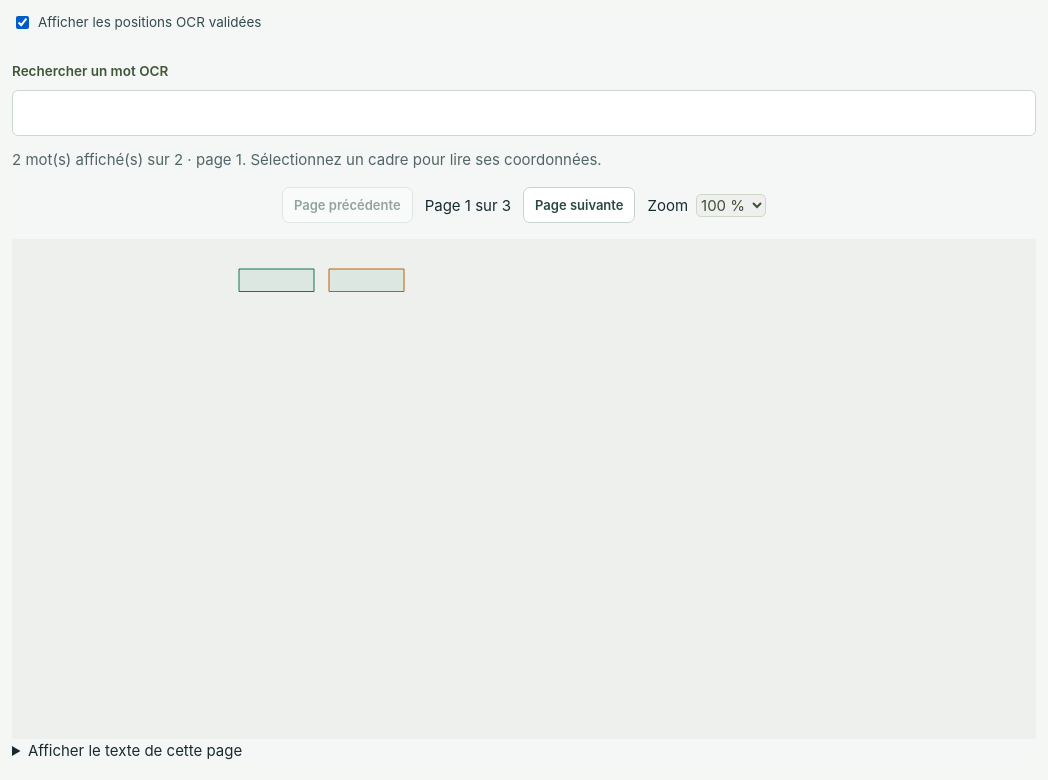
Test: change de page sans remonter le PDF et masque les positions absentes ou désactivées
The width and height of the screenshot is (1048, 780).
Expected: the button "Mot 1 : NAPS2" is shown, [239,269,314,292]
Step 1. Click the button "Page suivante" → [579, 205], box [523,187,635,223]
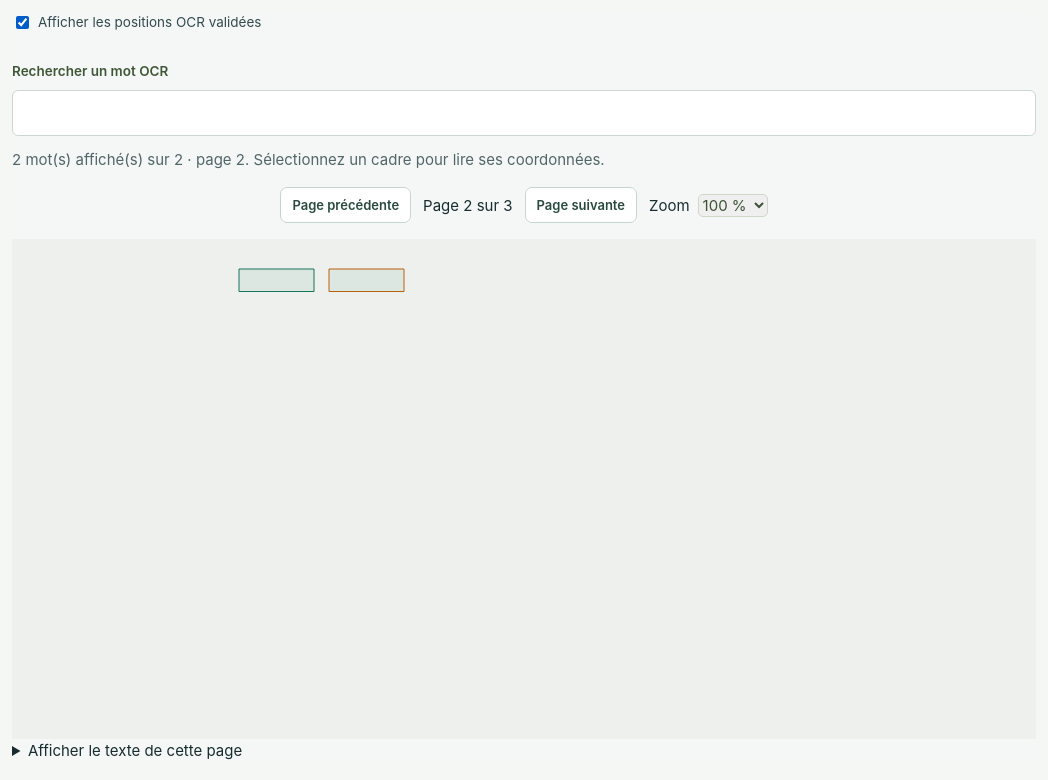
Expected: the button "Mot 1 : Seconde" is shown, [239,269,314,292]
Now the text "Page 2 sur 3" is shown, box [423,194,513,217]
Step 2. Click the checkbox labelled "Afficher les positions OCR validées" → [22, 22], box [16,16,29,29]
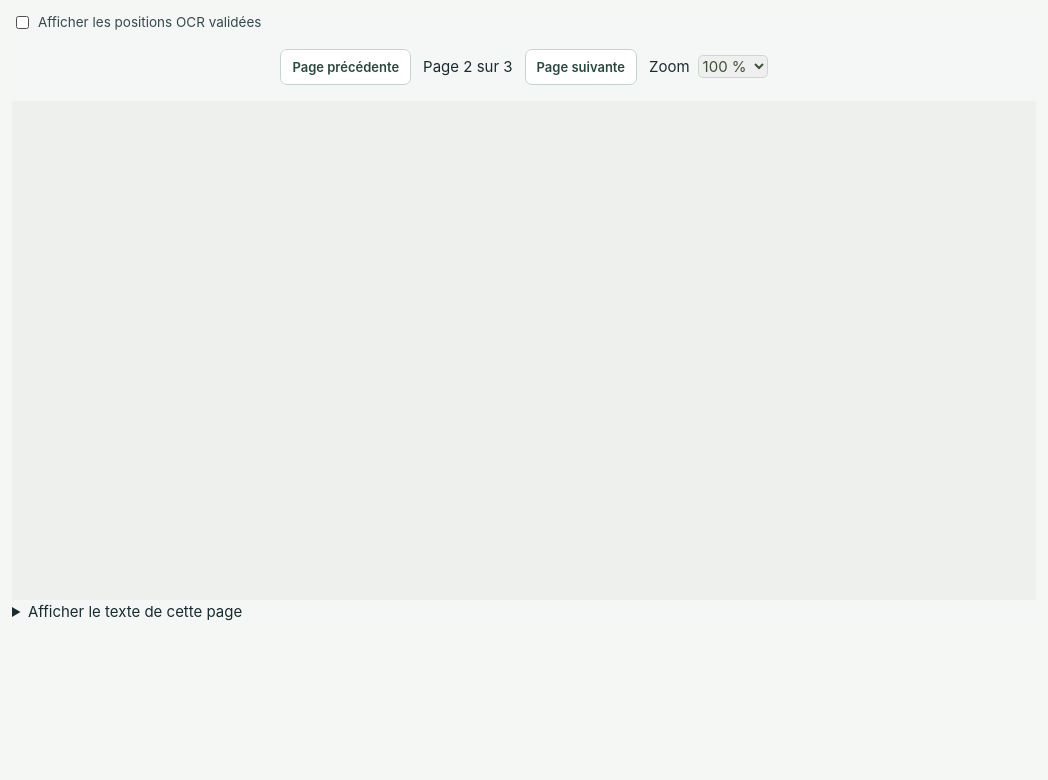
Now the text "Page 2 sur 3" is shown, box [423,55,513,79]
Step 3. Click the checkbox labelled "Afficher les positions OCR validées" → [22, 22], box [16,16,29,29]
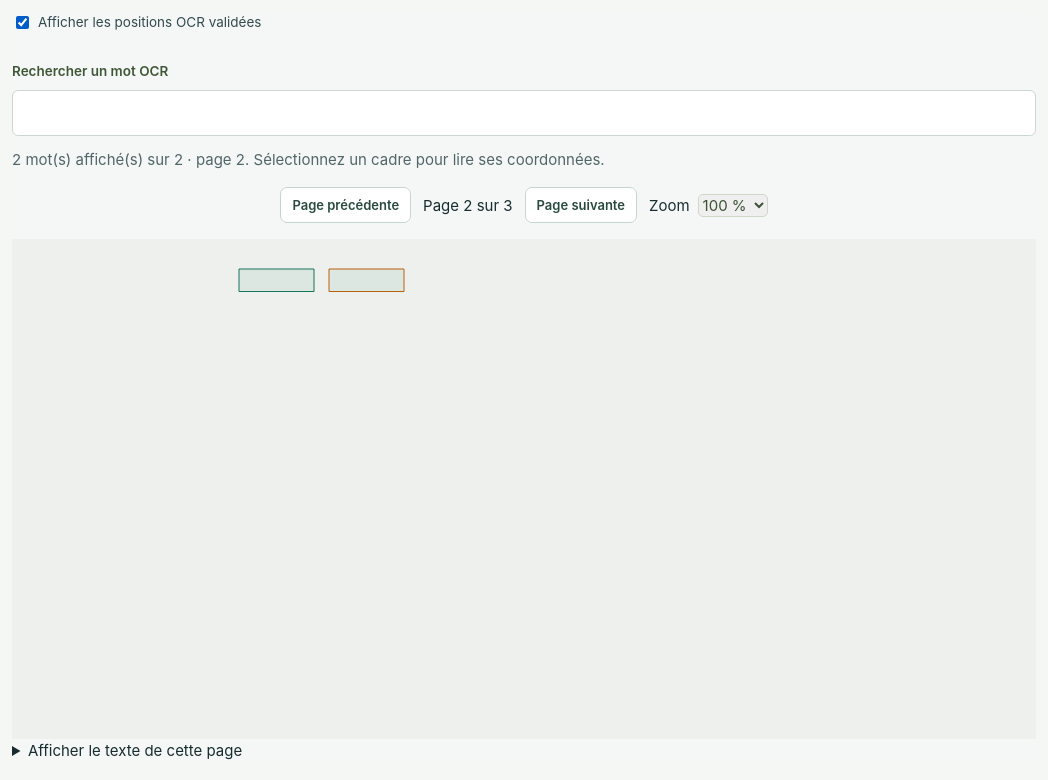
Expected: the button "Mot 1 : Seconde" is shown, [239,269,314,292]
Step 4. Click the button "Page suivante" → [581, 205], box [525,187,637,223]
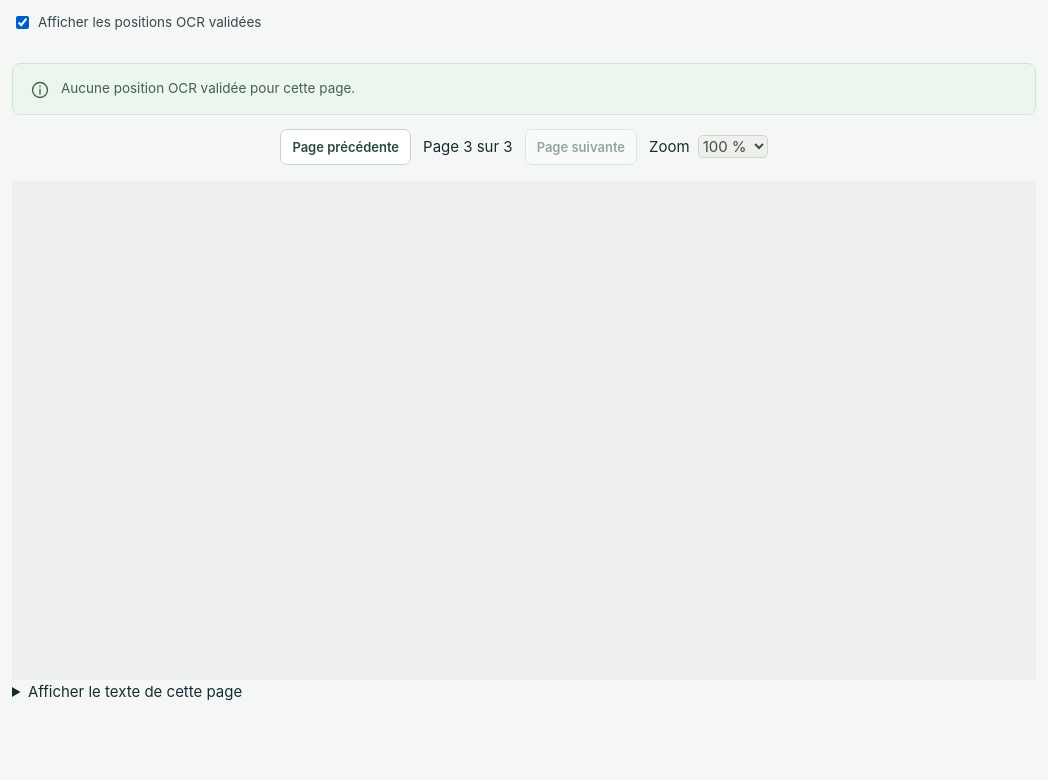
Now the text "Aucune position OCR validée pour cette page." is shown, box [61,78,355,100]
